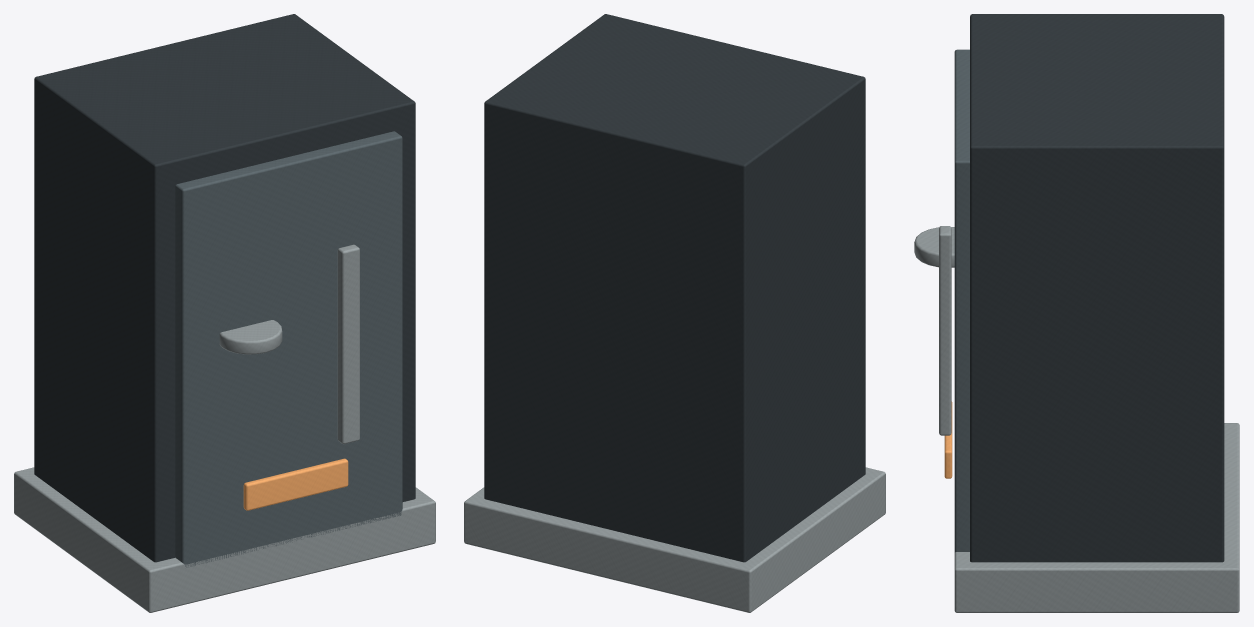
Rendered from SecureStorageSafe.glb.
3 renders of one model, left to right at view 1: azimuth 30°, elevation 25°; view 2: azimuth 150°, elevation 25°; view 3: azimuth 270°, elevation 25°, orthographic. The views are drawn at different scales.
Visible parts, largest first — view 1: SecureStorageSafe_Mesh; view 2: SecureStorageSafe_Mesh; view 3: SecureStorageSafe_Mesh.
Boxes of the visible parts, x1,y1,x2,y2 form: SecureStorageSafe_Mesh: (14,14,435,612); SecureStorageSafe_Mesh: (464,14,885,612); SecureStorageSafe_Mesh: (914,14,1239,612).
Bounding box in the file's own units: 1.12 × 1.64 × 1.05.
Materials: 5 (5 with a texture image).
